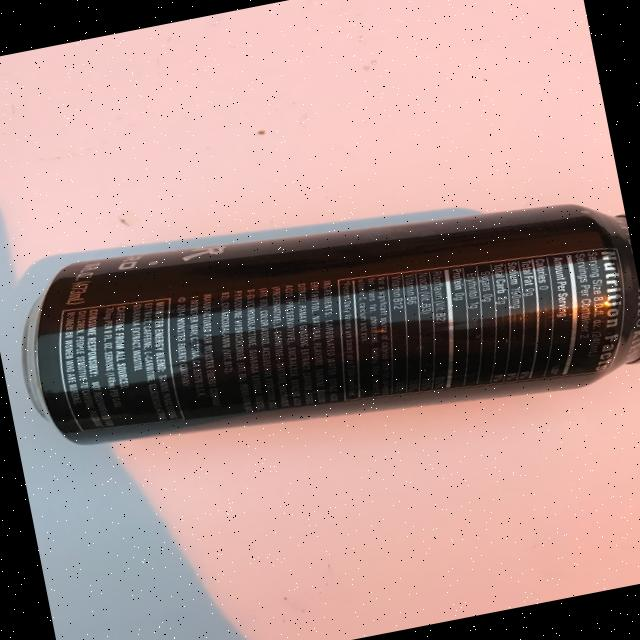metal: (3, 156, 640, 488)
